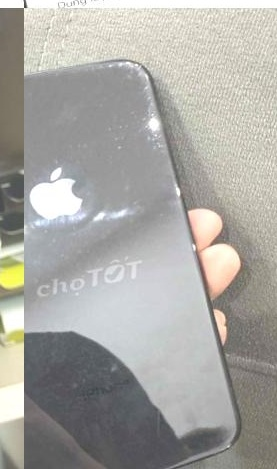scratch: (90, 46, 181, 168), (42, 221, 106, 277), (44, 136, 98, 181), (42, 57, 101, 89), (170, 171, 193, 206), (179, 234, 204, 264), (215, 434, 234, 456)
